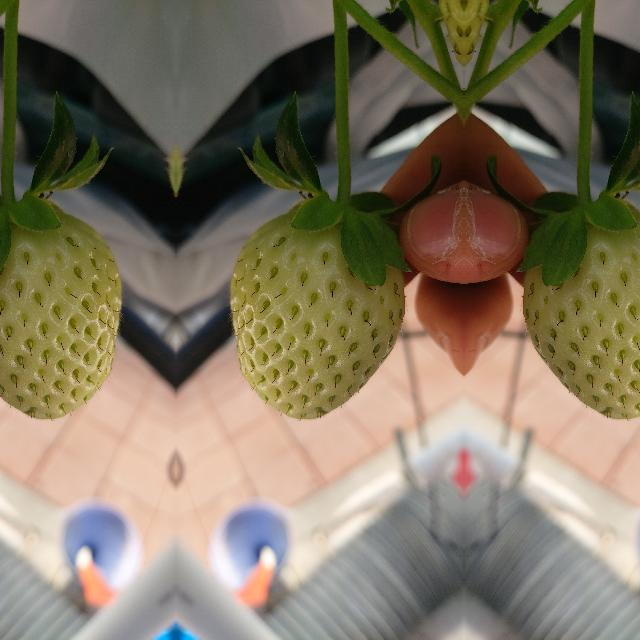Health_25: (230, 211, 404, 419), (0, 211, 120, 419), (522, 211, 640, 419)
